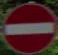No entry: (6, 2, 52, 45)
